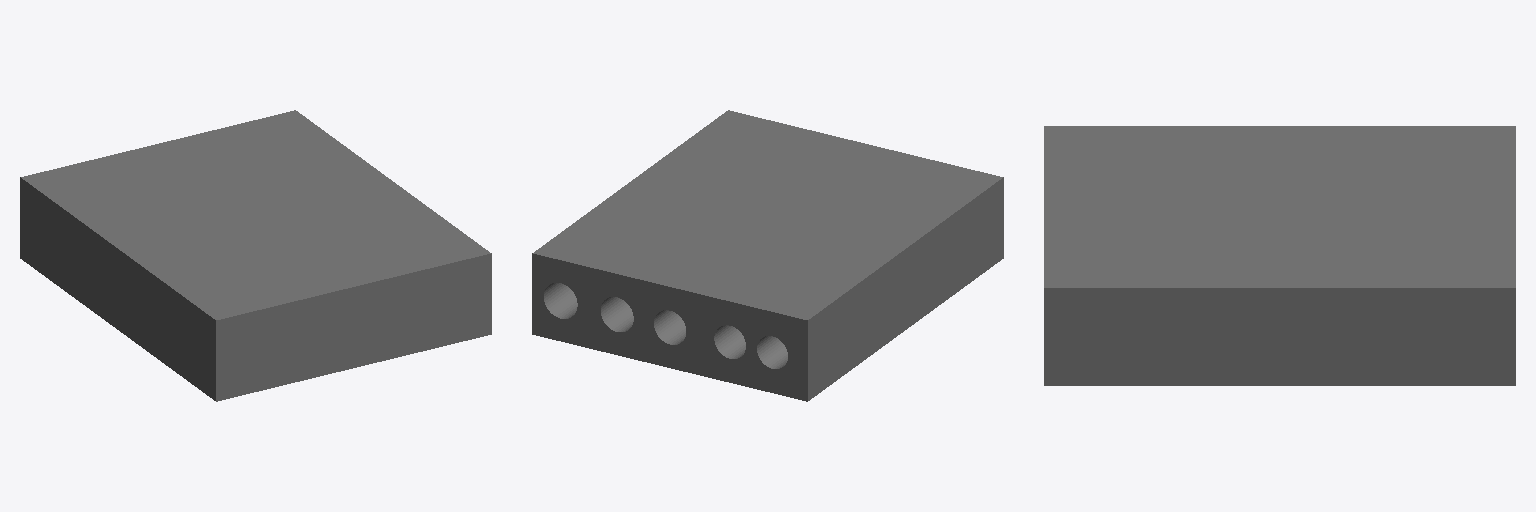
URDF robot description (peg_hole.urdf):
<?xml version="0.0" ?>
<robot name="peg_hole.urdf">

  <link name="base_link">    
    <inertial>
      <origin rpy="0 0 0" xyz="0 0 0"/>
       <mass value="0."/>
       <inertia ixx="0." ixy="0" ixz="0" iyy="0." iyz="0" izz="0."/>
    </inertial>
  </link>

  <link name="sphereLink">
  <contact>
      <lateral_friction value="1.5"/>
  </contact>
    <inertial>
      <origin rpy="0 0 0" xyz="0 0 0"/>
       <mass value="0.5"/>
       <inertia ixx="0.1" ixy="0" ixz="0" iyy="0.1" iyz="0" izz="0.1"/>
    </inertial>
    <visual>
      <origin rpy="0 0 0" xyz="0 0 0"/>
      <geometry>
				<mesh filename="peg_hole.STL" scale="0.01 0.01 0.01"/>
      </geometry>
       <material name="grey">
        <color rgba="0.5 0.5 0.5 0.2"/>
      </material>
    </visual>
    <collision>
      <origin rpy="0 0 0" xyz="0 0 0"/>
      <geometry>
	 	     <mesh filename="peg_hole.STL" scale="0.01 0.01 0.01"/>
      </geometry>
    </collision>
  </link>

  <joint name="joint1" type="fixed">
    <parent link="base_link"/>
    <child link="sphereLink"/>
    <origin xyz="0 0 0" rpy="0 0 0" />
    <axis xyz = "0 0 1" />
  </joint>

</robot>

--- Facts derived from the render (not from the file) ---
3 views of the same robot in one strip: view 1: azimuth 30°, elevation 25°; view 2: azimuth 150°, elevation 25°; view 3: azimuth 270°, elevation 25° (orthographic).
Model peg_hole.urdf with 2 links and 1 joints (1 fixed), rooted at base_link, posed every joint at zero.
Links seen in each view (by area): view 1: sphereLink; view 2: sphereLink; view 3: sphereLink.
Boxes of the visible links, <box> form: sphereLink: <box>20,110,491,401</box>; sphereLink: <box>532,110,1003,401</box>; sphereLink: <box>1044,126,1515,385</box>.
Bounding box of the posed robot: 1.95 × 2.4 × 0.55 m (x, y, z).
Meshes: 1 distinct files referenced, 1 mesh visuals loaded (1 binary STL).